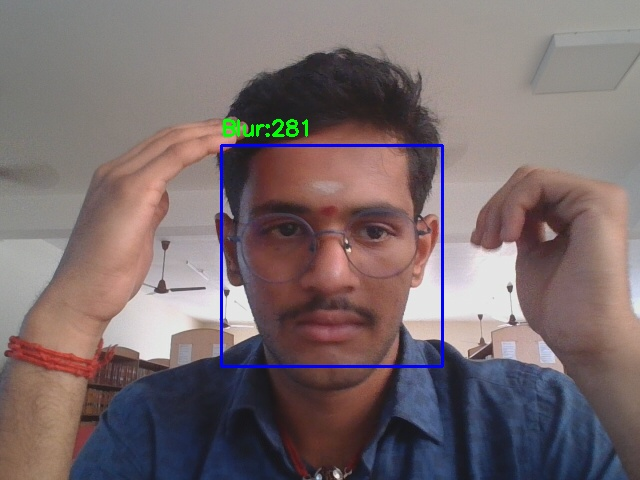real: (221, 145, 442, 366)
